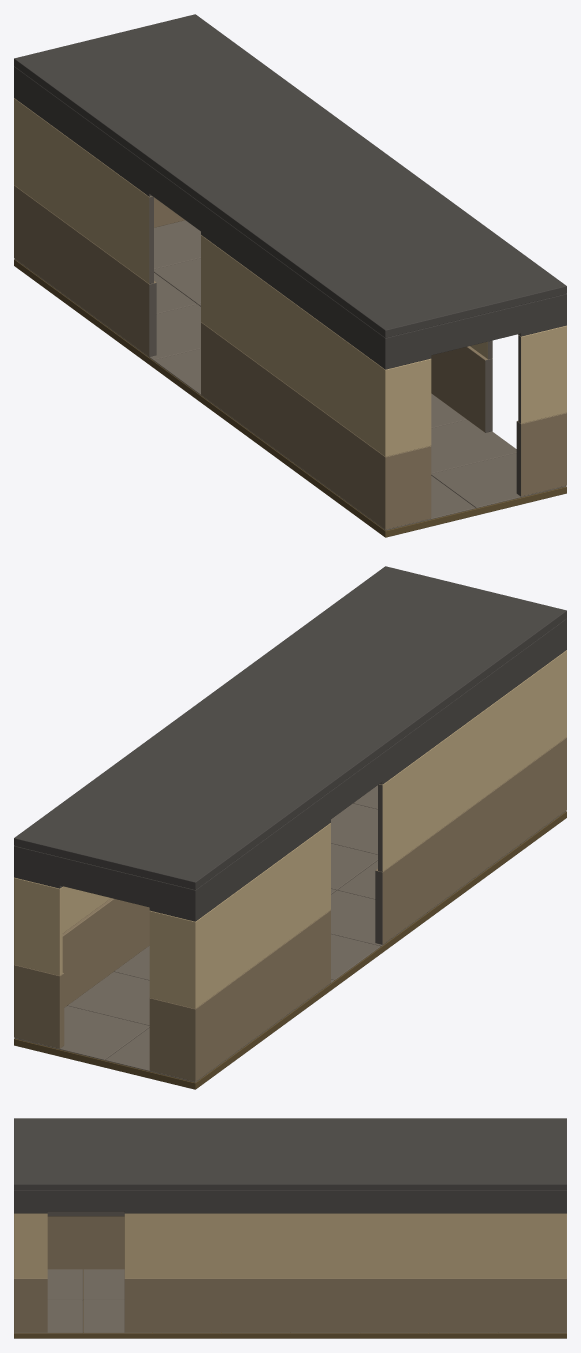
The model's file is gen-walk.glb.
The picture shows the model from 3 angles, top to bottom: view 1: azimuth 30°, elevation 25°; view 2: azimuth 150°, elevation 25°; view 3: azimuth 270°, elevation 25°; orthographic projection. The views are drawn at different scales.
Visible parts, largest first — view 1: THE WALK; view 2: THE WALK; view 3: THE WALK.
Boxes of the visible parts, x1,y1,x2,y2 form: THE WALK: (14,14,566,537); THE WALK: (14,566,566,1089); THE WALK: (14,1118,566,1338).
Size of the model in its own units: 2.4 by 2.62 by 8.5.
